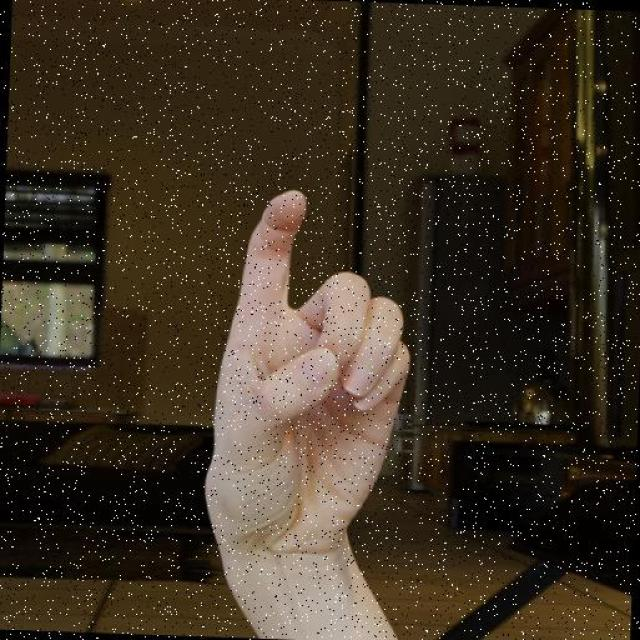X: (195, 179, 422, 640)
